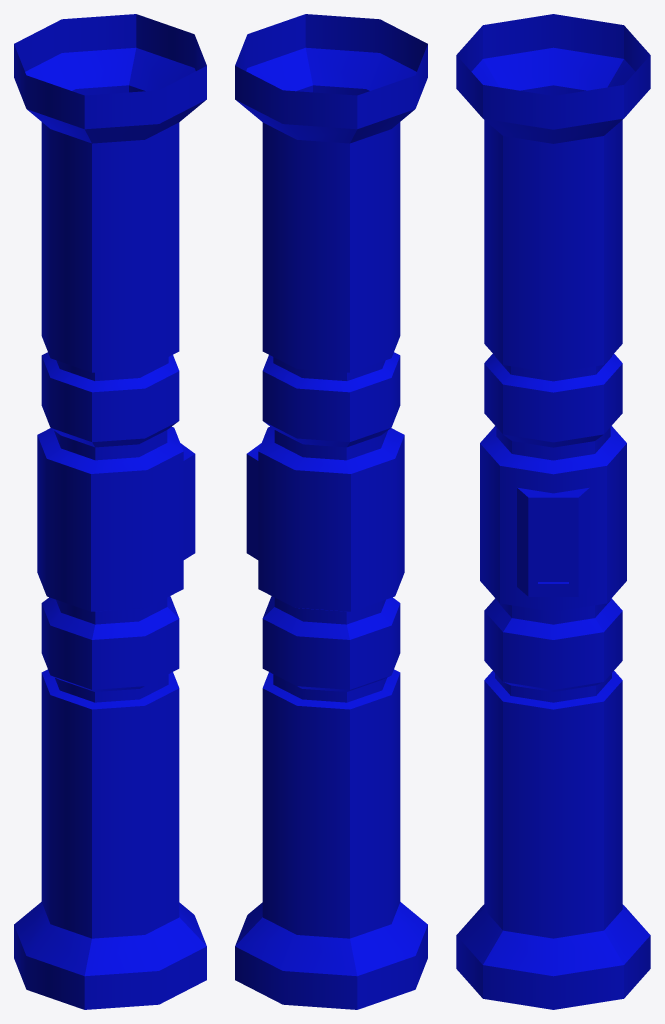
Rendered from SM_VALVE_CANO_02.fbx.
3 views of the same model, side by side, from view 1: azimuth 30°, elevation 25°; view 2: azimuth 150°, elevation 25°; view 3: azimuth 270°, elevation 25° (orthographic).
Visible parts, largest first — view 1: SM_VALVE_CANO_02; view 2: SM_VALVE_CANO_02; view 3: SM_VALVE_CANO_02.
Boxes of the visible parts, x1,y1,x2,y2 form: SM_VALVE_CANO_02: (14, 14, 206, 1009); SM_VALVE_CANO_02: (235, 14, 427, 1009); SM_VALVE_CANO_02: (456, 14, 650, 1009).
Bounding box in the file's own units: 0.77 × 4 × 0.77.
